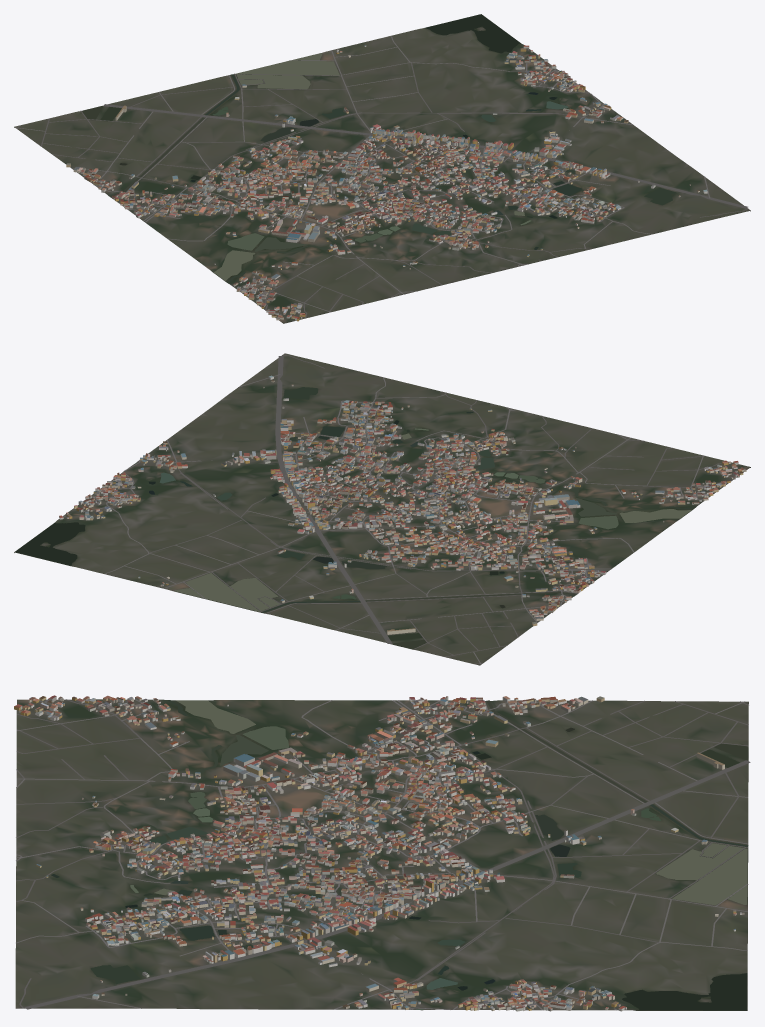
3 views of the same model, one above another, from view 1: azimuth 30°, elevation 25°; view 2: azimuth 150°, elevation 25°; view 3: azimuth 270°, elevation 25° (orthographic). The views are drawn at different scales.
Parts seen in each view (by area): view 1: ground, buildings, roads, water; view 2: ground, buildings, roads, water; view 3: ground, buildings, water, roads.
Part boxes in pixels (x1,y1,x2,y2): ground: (14, 14, 750, 323); buildings: (66, 45, 707, 321); roads: (15, 36, 747, 318); water: (82, 14, 676, 282); ground: (14, 353, 750, 665); buildings: (59, 375, 746, 634); roads: (63, 355, 732, 664); water: (15, 387, 693, 648); ground: (15, 699, 748, 1010); buildings: (14, 695, 744, 1011); water: (51, 700, 748, 1010); roads: (16, 699, 750, 1010).
Size of the model in its own units: 1412 by 25.08 by 1411.
